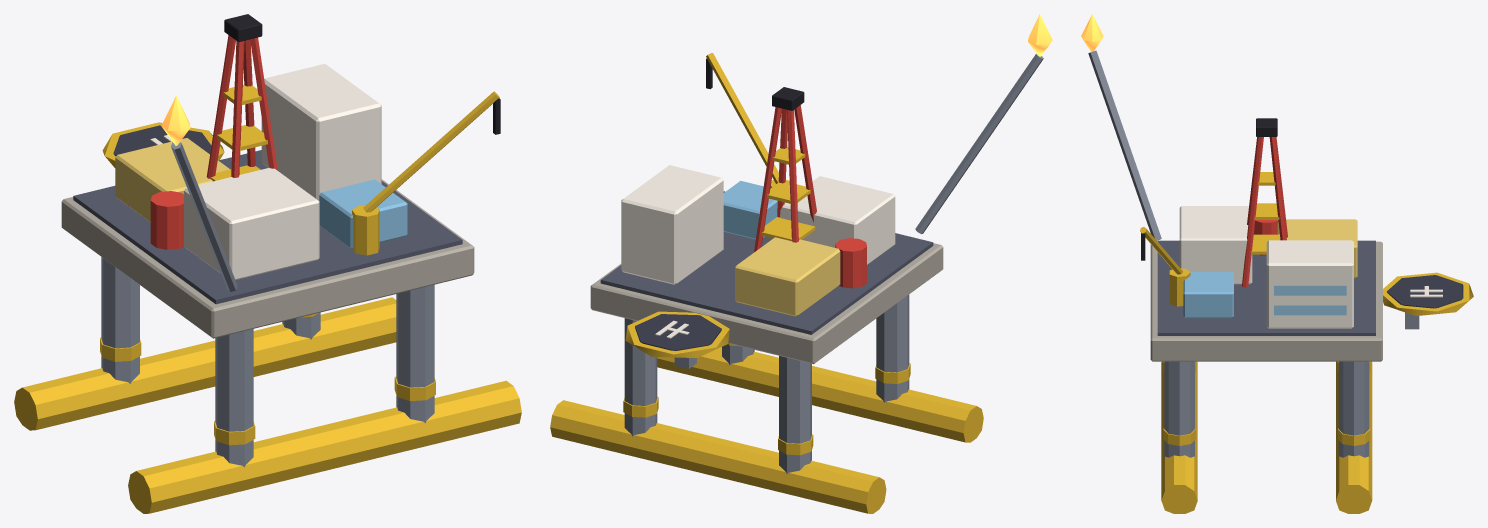
File: oil_rig.glb
The picture shows the model from 3 angles, left to right: view 1: azimuth 30°, elevation 25°; view 2: azimuth 150°, elevation 25°; view 3: azimuth 270°, elevation 25°; orthographic projection. The views are drawn at different scales.
Parts seen in each view (by area): view 1: oil_rig; view 2: oil_rig; view 3: oil_rig.
Boxes of the visible parts, left/top/right/bottom form: oil_rig: left=14, top=14, right=521, bottom=513; oil_rig: left=550, top=14, right=1052, bottom=513; oil_rig: left=1081, top=14, right=1473, bottom=513.
Bounding box in the file's own units: 97.88 × 107 × 108.
Materials: 1 (1 with a texture image).
